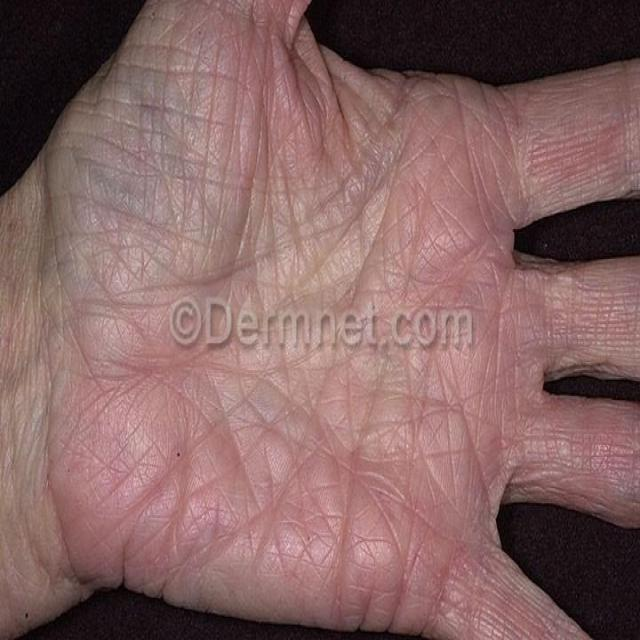liquenificacion 1: (5, 0, 639, 639)
liquenificacion 2: (5, 0, 639, 639)
